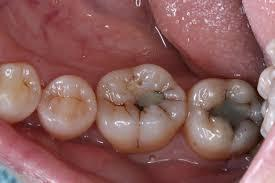Caries: (105, 75, 174, 148), (205, 88, 256, 138)
